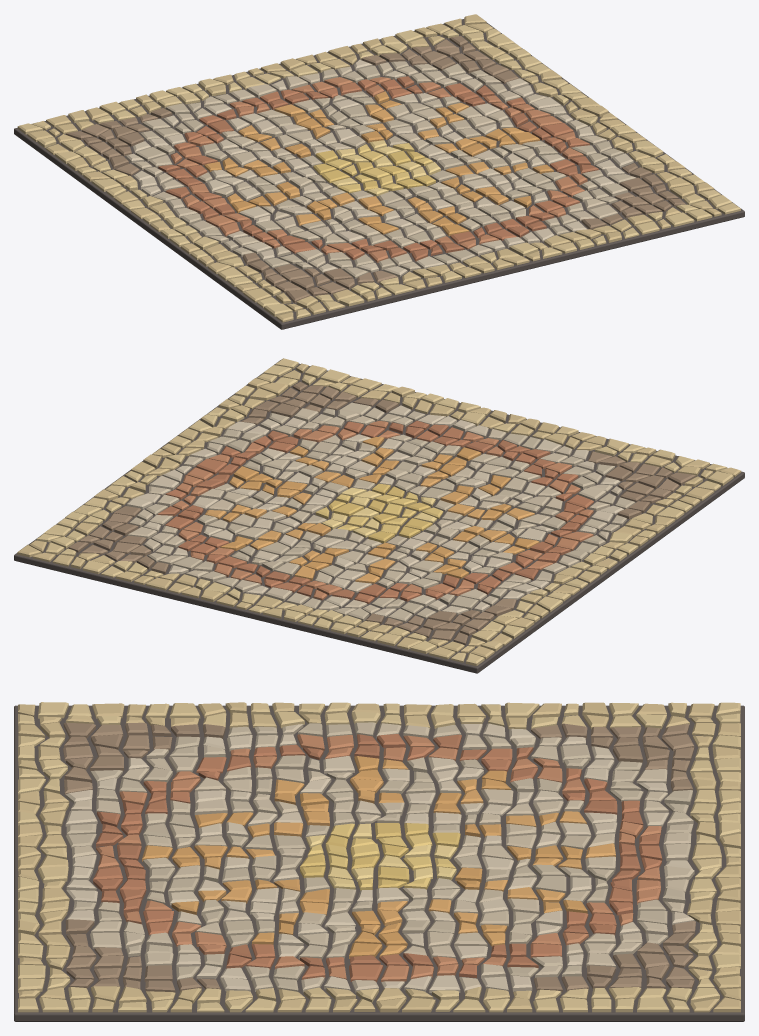
The model's file is mosaic_a.glb.
The picture shows the model from 3 angles, top to bottom: view 1: azimuth 30°, elevation 25°; view 2: azimuth 150°, elevation 25°; view 3: azimuth 270°, elevation 25°; orthographic projection. The views are drawn at different scales.
Visible parts, largest first — view 1: model; view 2: model; view 3: model.
Boxes of the visible parts, left/top/right/bottom form: model: left=14, top=14, right=744, bottom=329; model: left=14, top=358, right=744, bottom=673; model: left=14, top=702, right=744, bottom=1021.
Bounding box in the file's own units: 1.99 × 0.0424 × 1.99.
